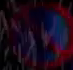No Stopping: (7, 2, 72, 66)
